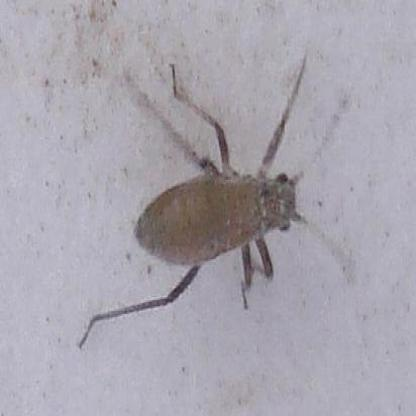aphid: (76, 64, 338, 302)
